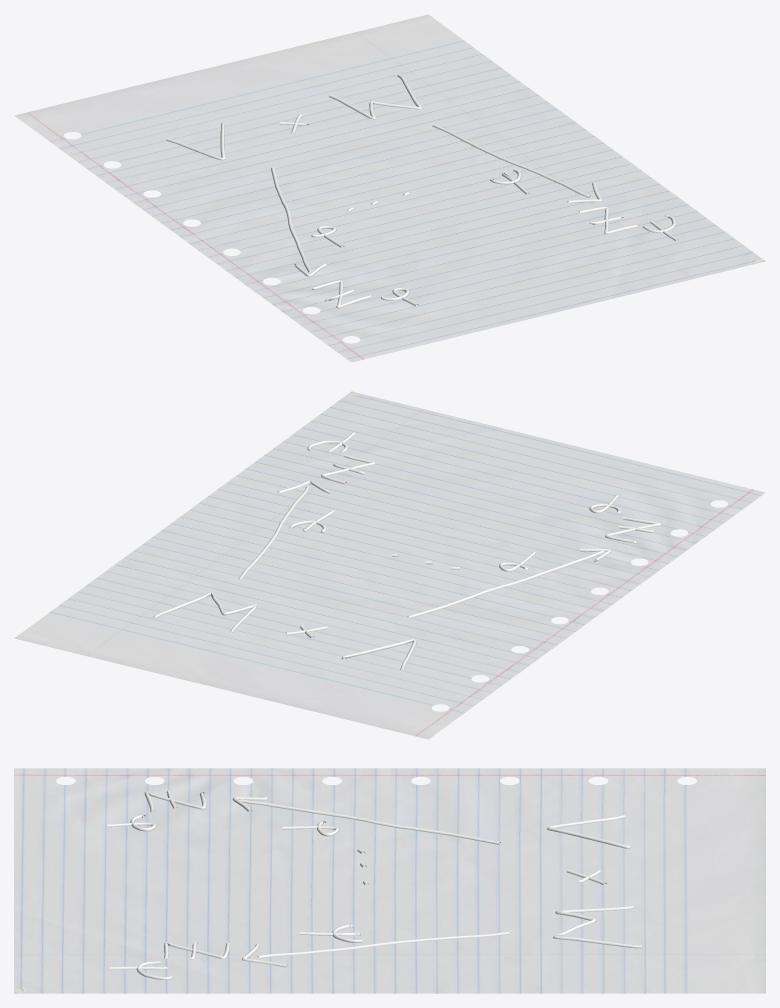
File: notebook_tensor.glb
The picture shows the model from 3 angles, top to bottom: view 1: azimuth 30°, elevation 25°; view 2: azimuth 150°, elevation 25°; view 3: azimuth 270°, elevation 25°; orthographic projection. The views are drawn at different scales.
Visible parts, largest first — view 1: Paper, Drawing; view 2: Paper, Drawing; view 3: Paper, Drawing.
Part boxes in pixels (x1=…): Paper: x1=14, y1=14, x2=765, y2=362; Drawing: x1=166, y1=74, x2=678, y2=308; Paper: x1=14, y1=391, x2=765, y2=739; Drawing: x1=153, y1=432, x2=661, y2=670; Paper: x1=14, y1=768, x2=765, y2=993; Drawing: x1=106, y1=790, x2=641, y2=979.
Bounding box in the file's own units: 2 × 0.0194 × 2.82.
2 materials, 1 textured.
